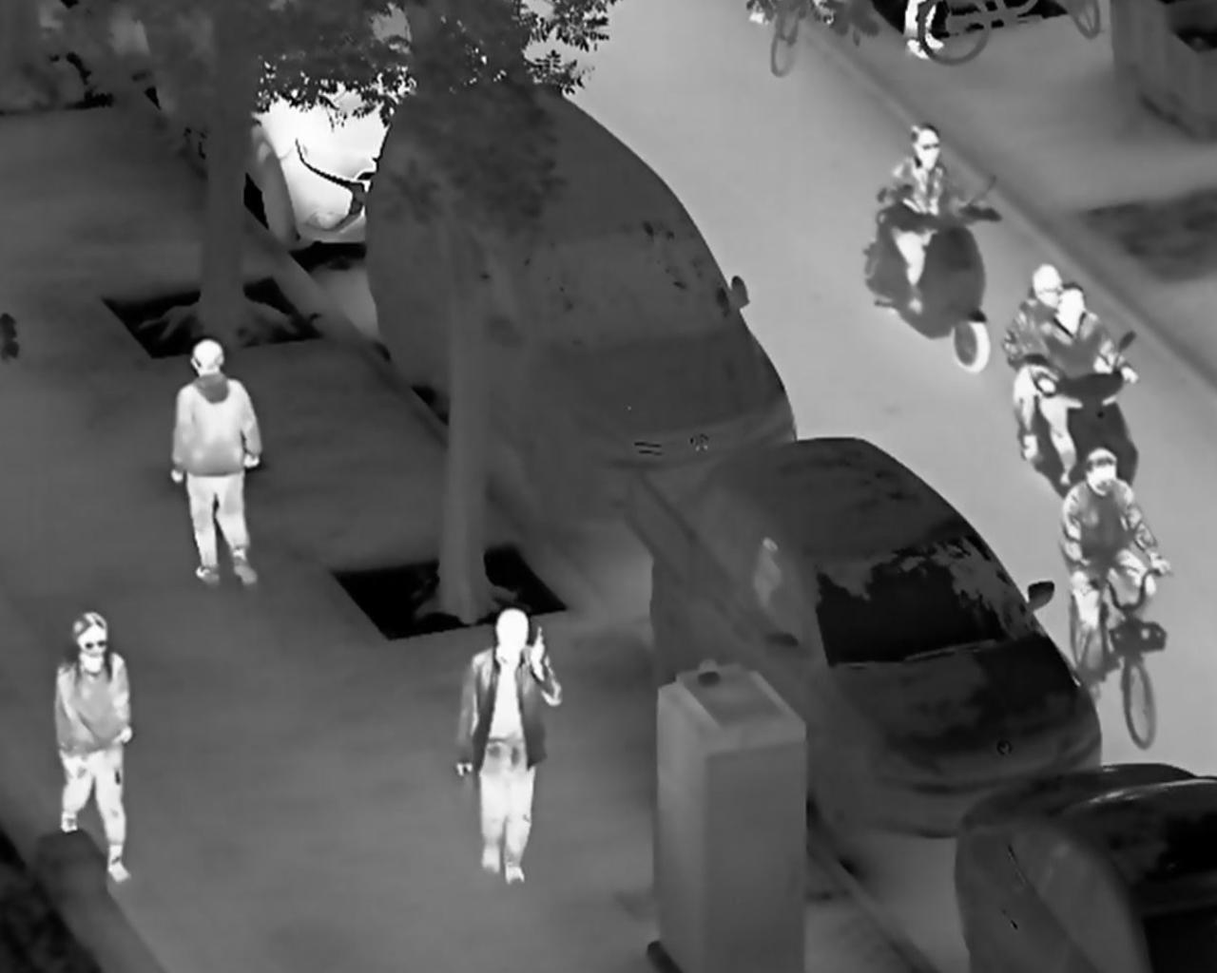person: (454, 607, 563, 891), (166, 336, 266, 593), (1054, 446, 1174, 653), (52, 612, 141, 886), (1024, 284, 1141, 489), (884, 121, 987, 319)
